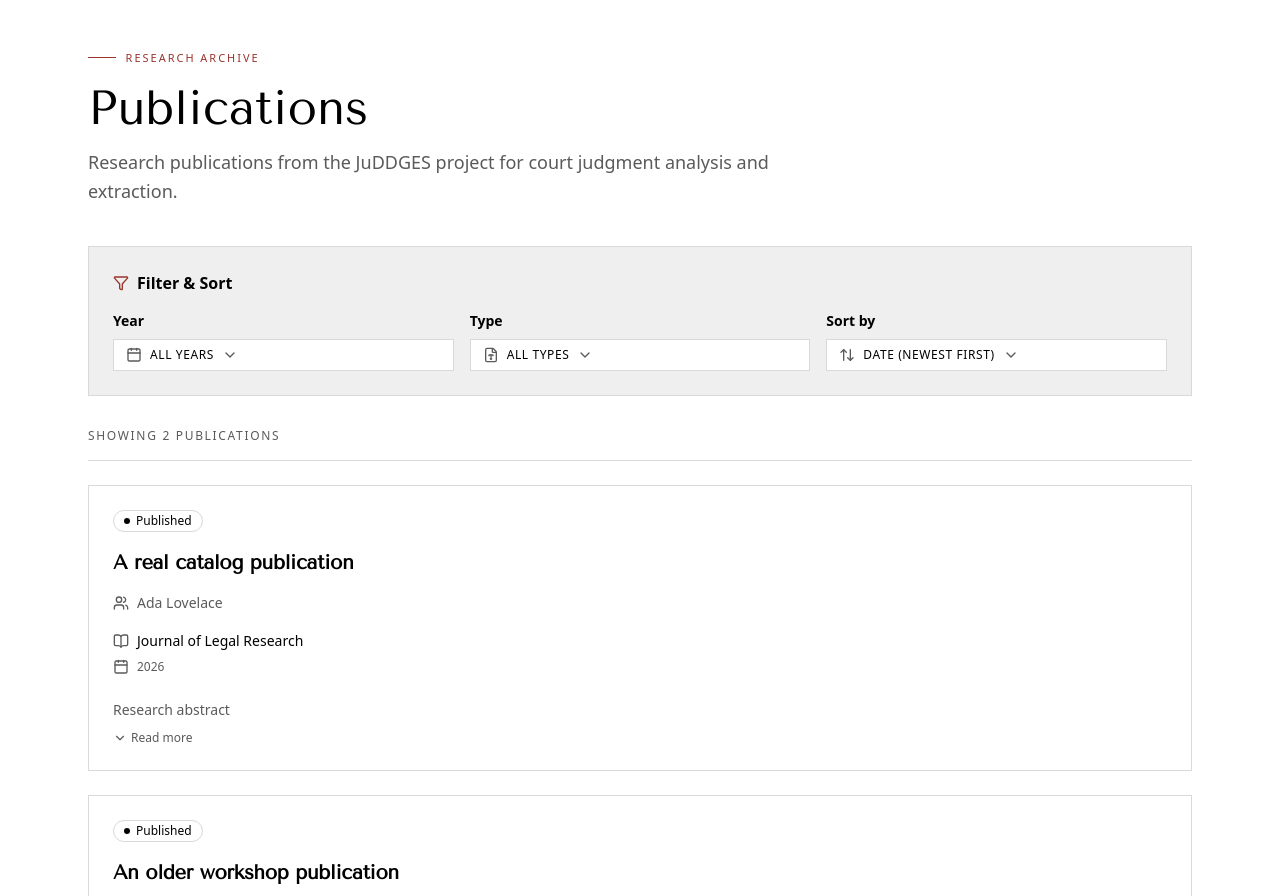
Test: PublicationsPage › distinguishes filtered no-results from an empty catalog and resets filters
Expected: the heading "A real catalog publication" is shown, [113,551,354,574]
Click the button with aria-label "Type filter: All types" at (538, 354), box [470,339,810,371]
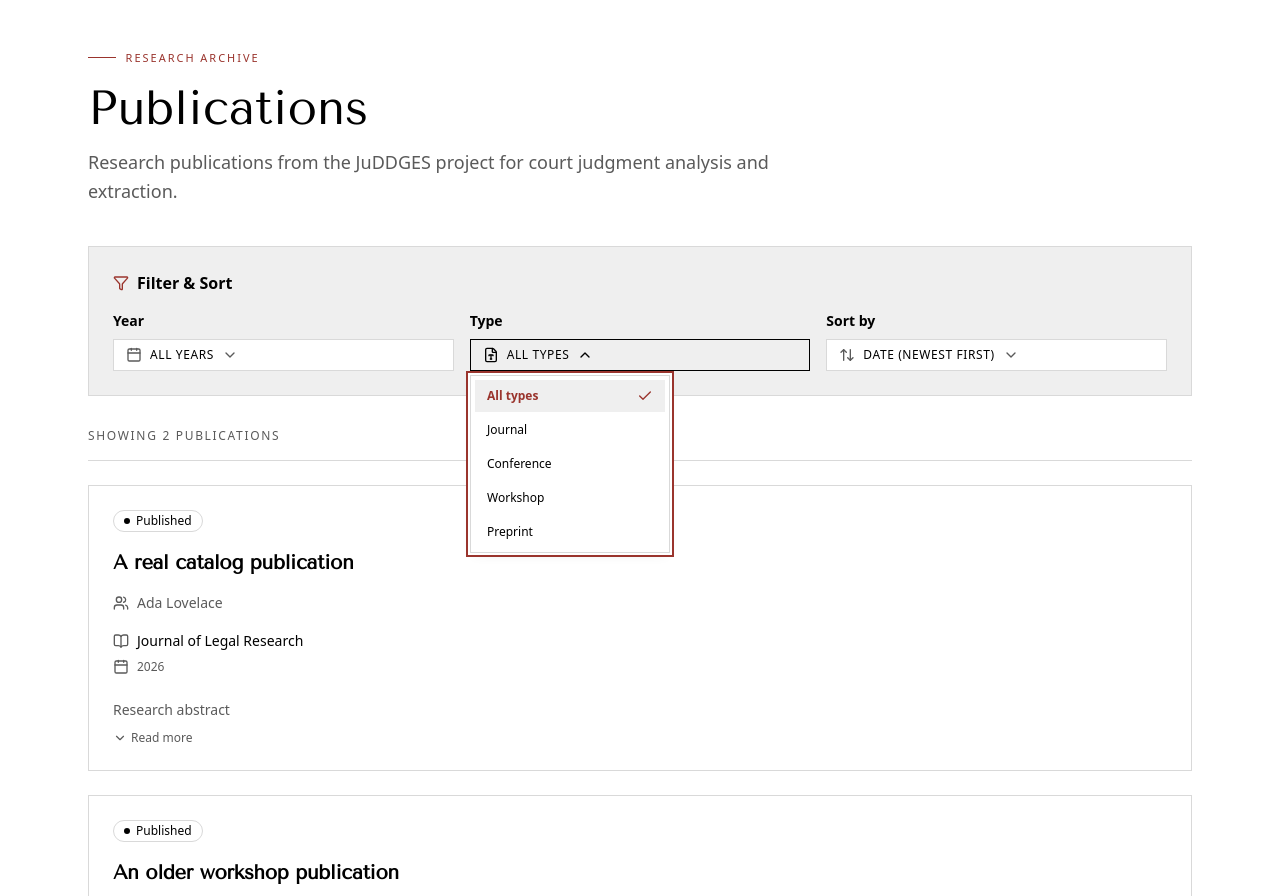
Click the menu item "Conference" at (519, 464), box [487,455,552,472]
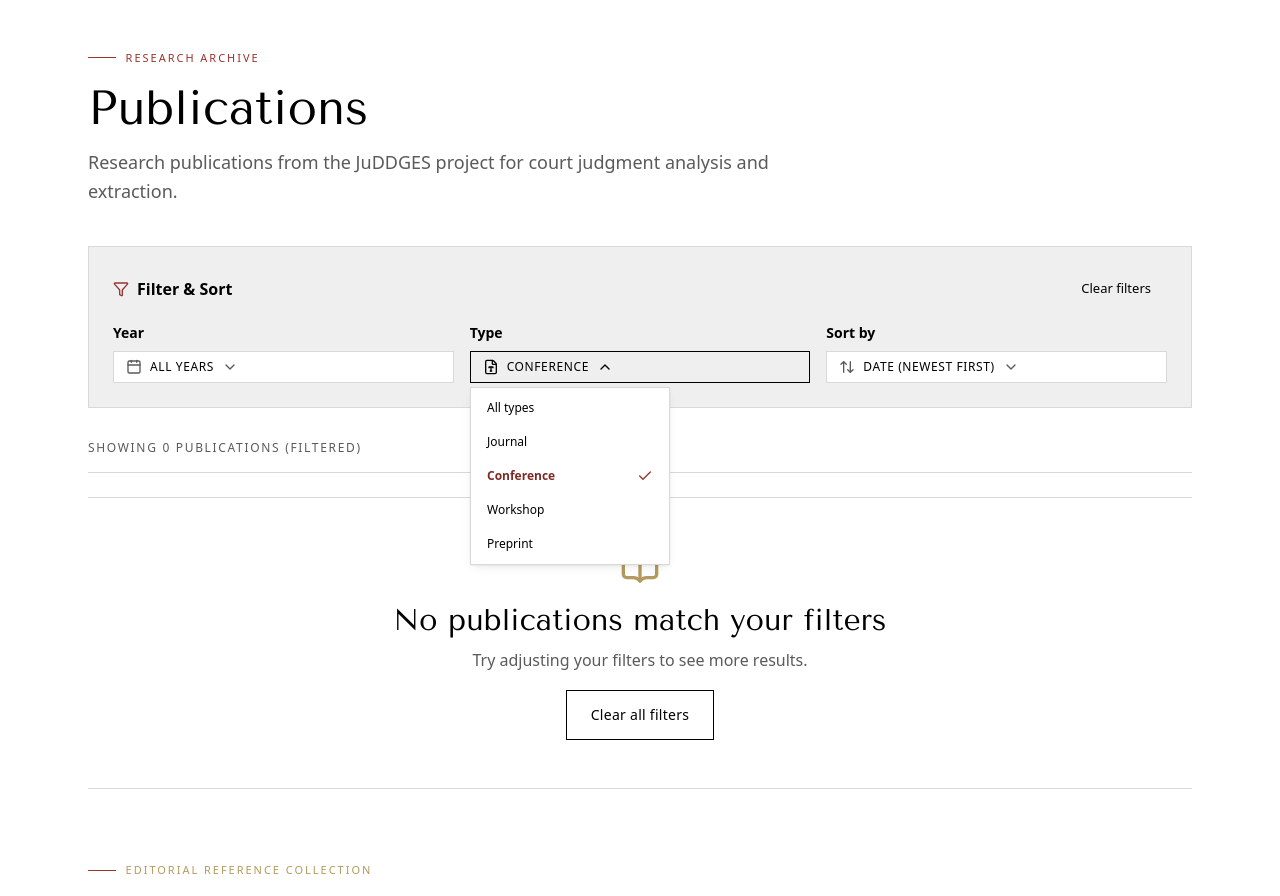
Press Escape
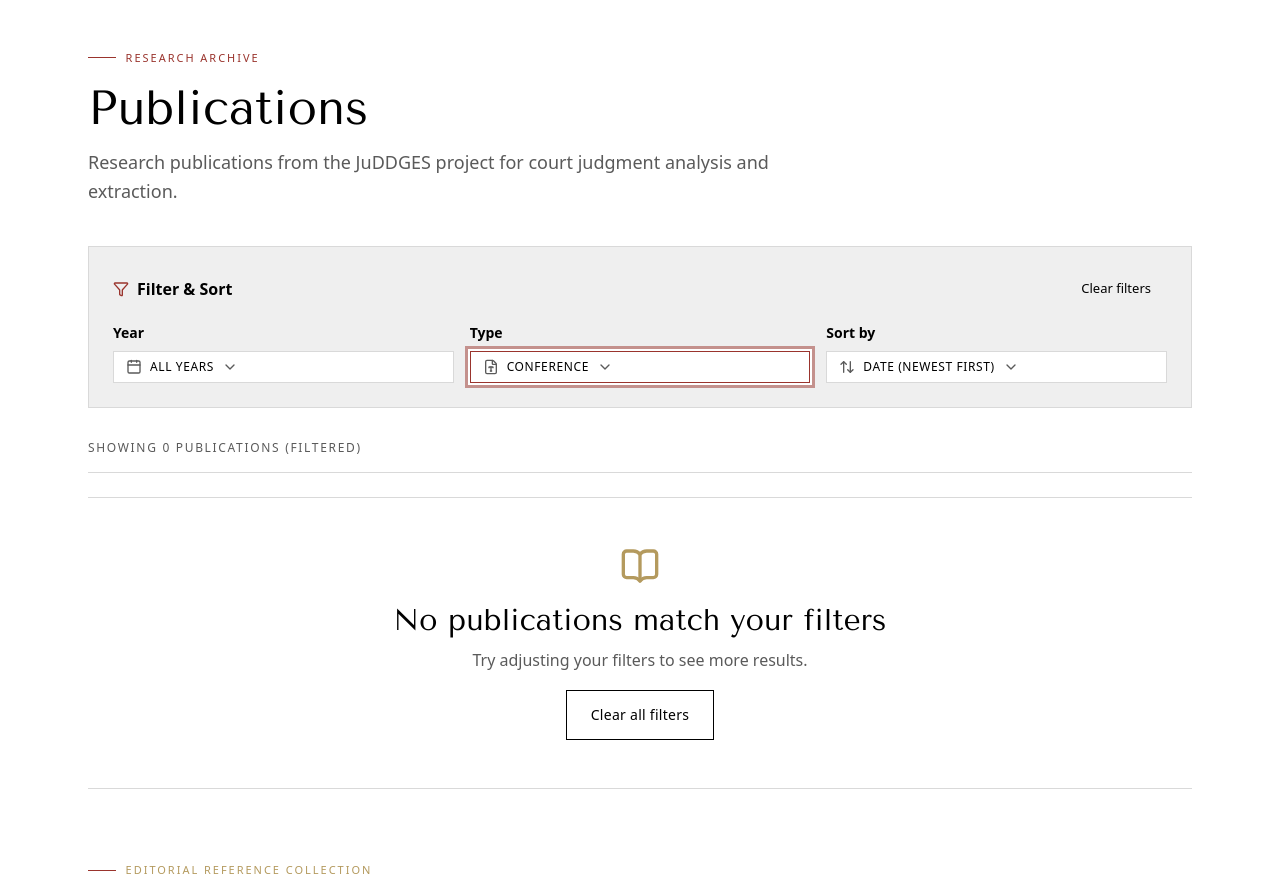
Expected: the heading "No publications match your filters" is shown, [394,602,887,638]
Click the button "Clear all filters" at (640, 714), box [566,690,714,740]
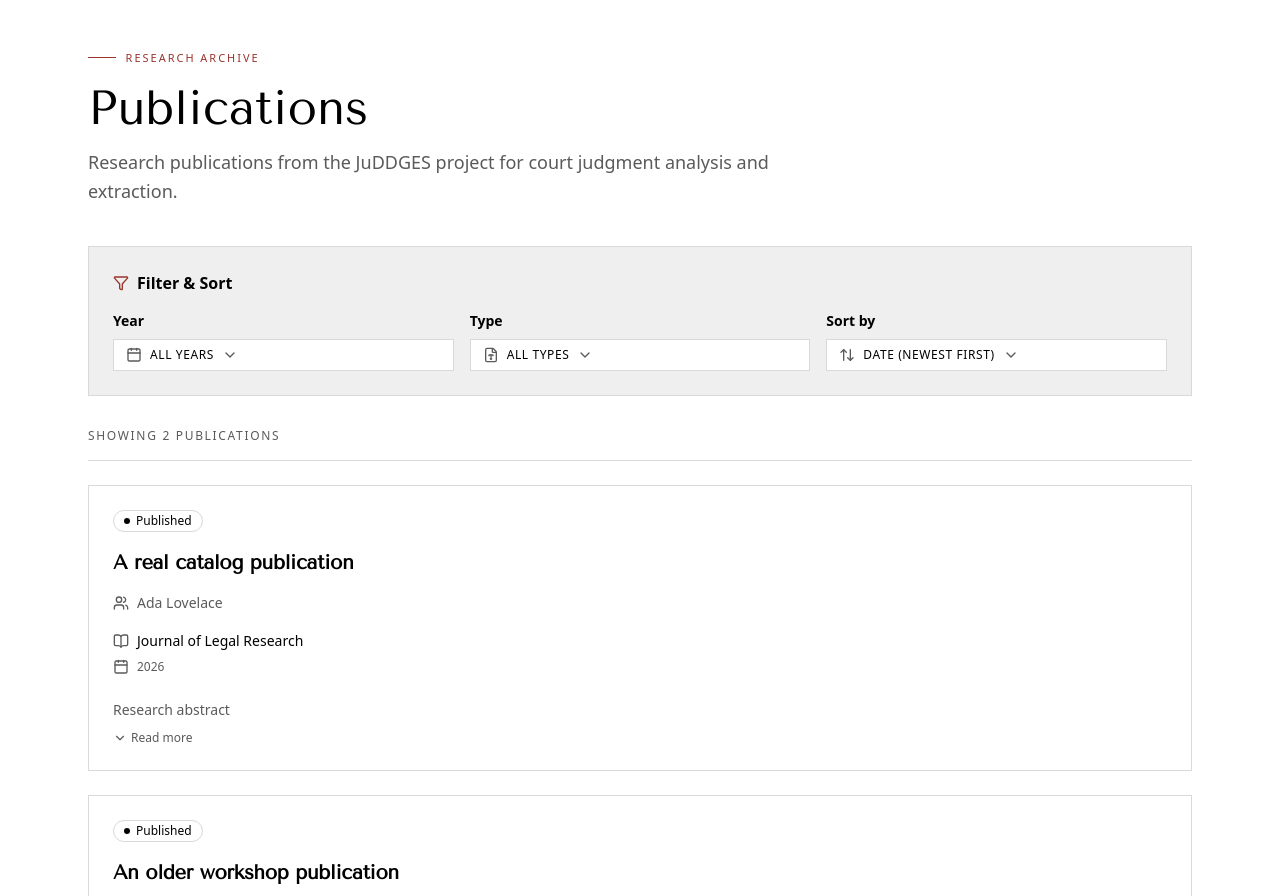
Expected: the heading "A real catalog publication" is shown, [113,551,354,574]
Expected: the heading "An older workshop publication" is shown, [113,861,399,884]
Expected: the heading "No publications match your filters" is gone
